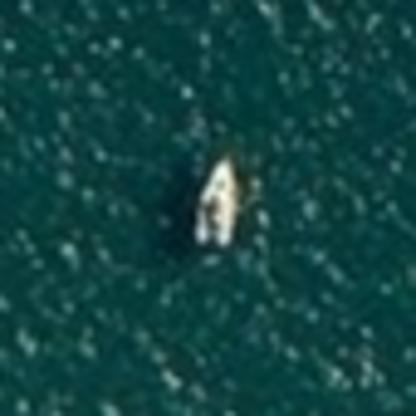ship: (179, 150, 252, 254)
